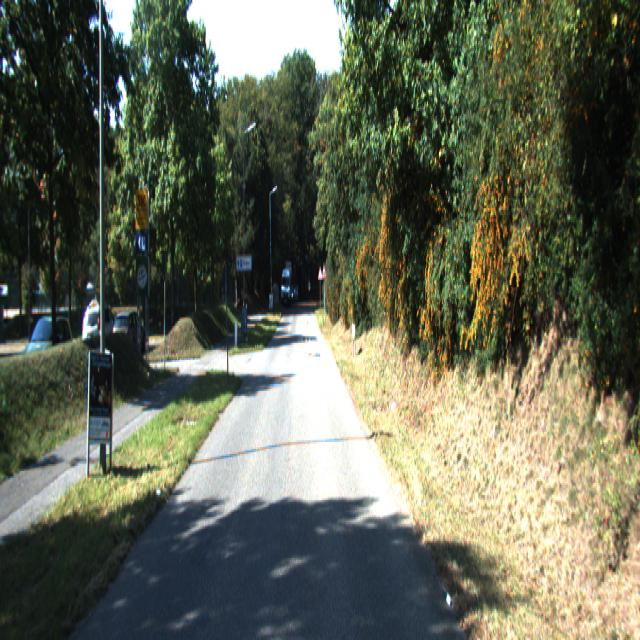Car: (18, 312, 78, 390), (82, 305, 120, 359), (112, 310, 147, 360)
DontCare: (278, 250, 301, 316)
